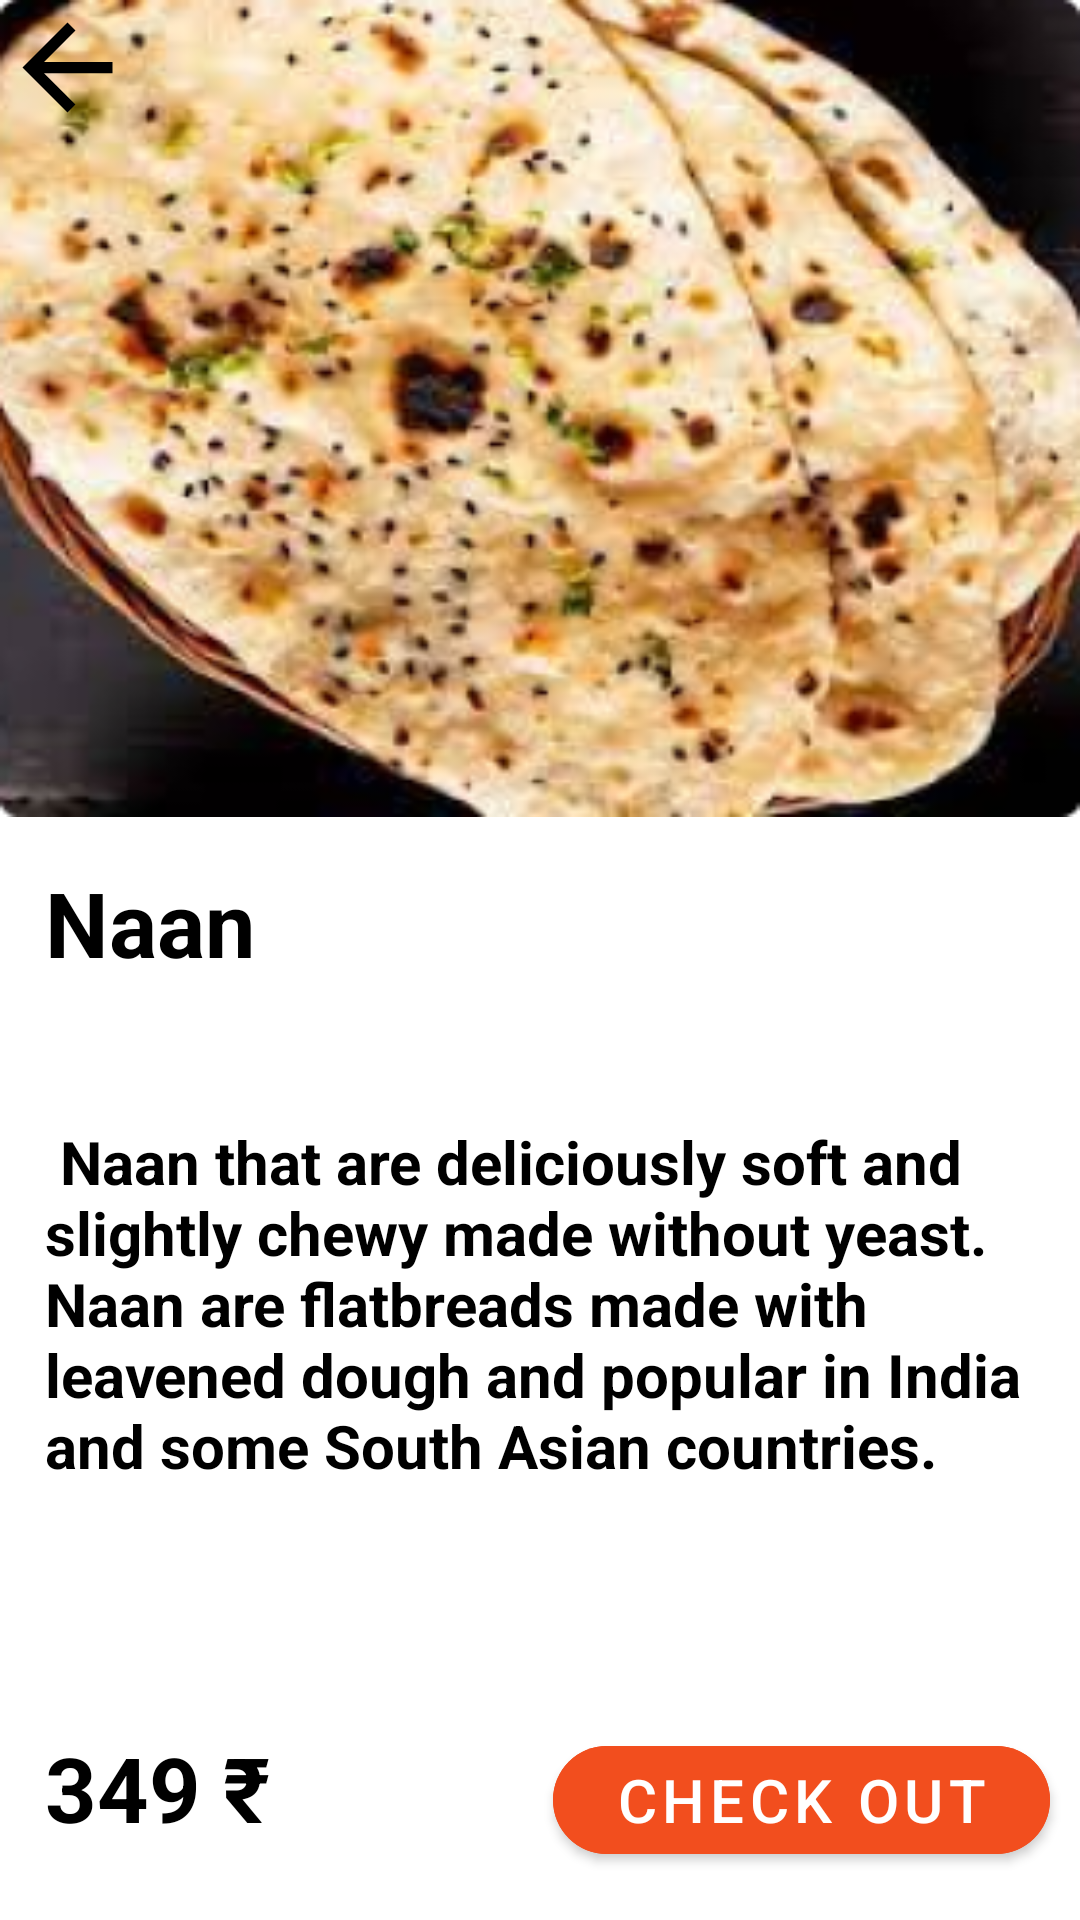

Icon click points for this 1080*1920 phone screenshot, format (x=x, y=y):
back: (x=67, y=67)
